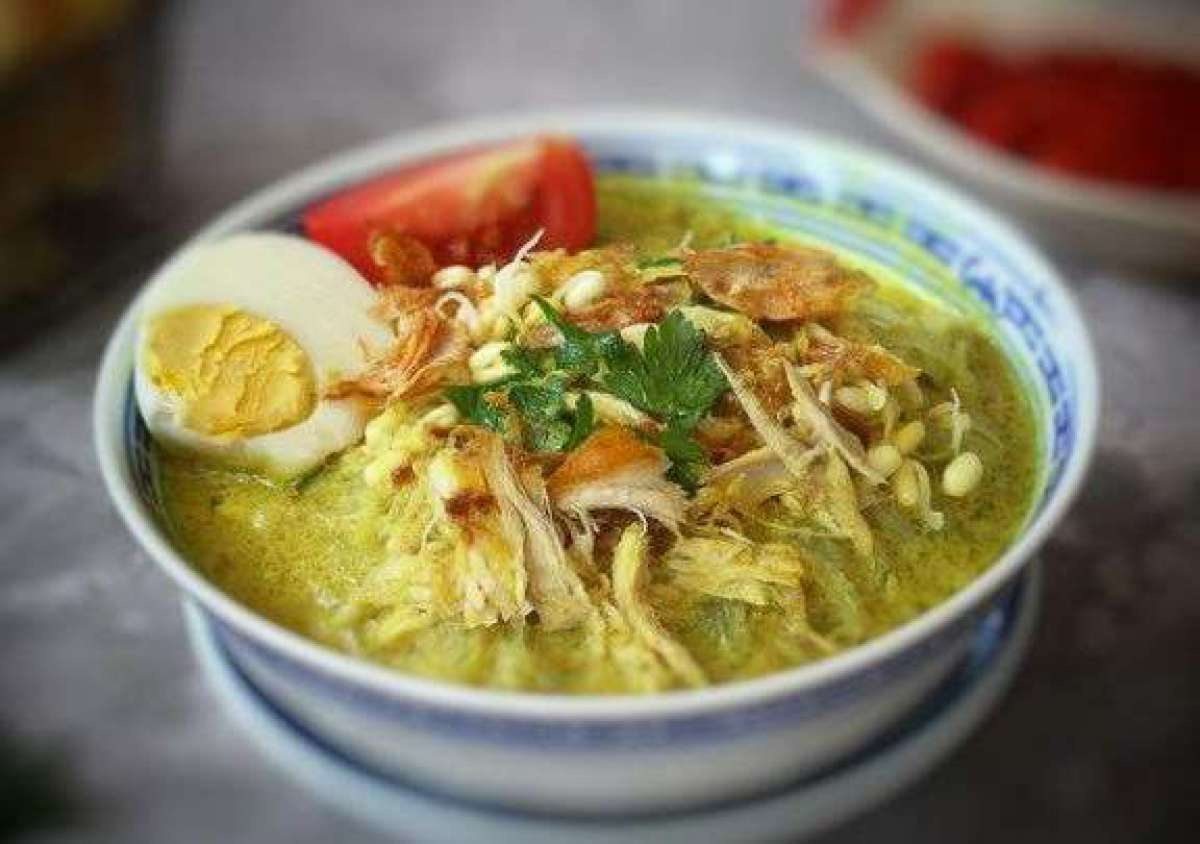soto: (111, 143, 1004, 687)
